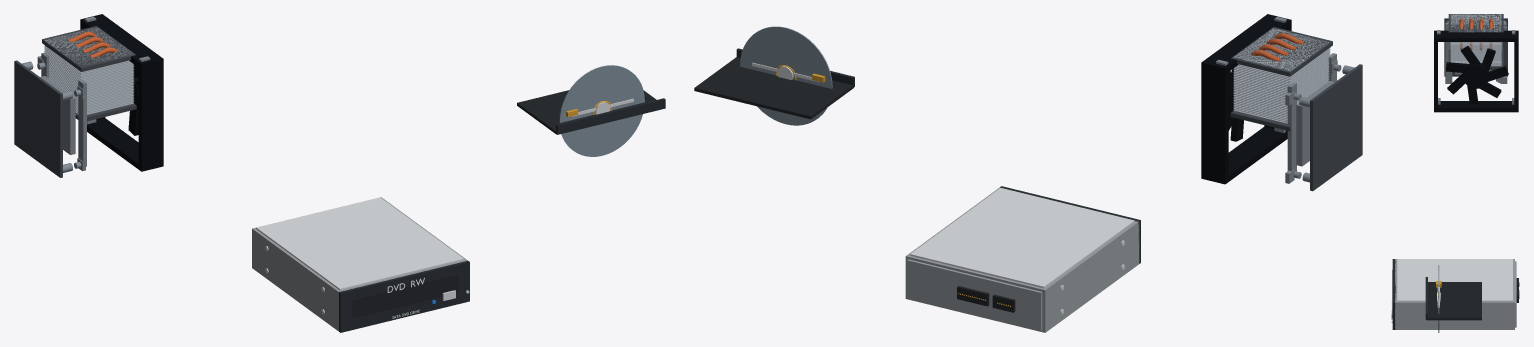
The model's file is cpu_cooler.glb.
3 renders of one model, left to right at view 1: azimuth 30°, elevation 25°; view 2: azimuth 150°, elevation 25°; view 3: azimuth 270°, elevation 25°, orthographic. The views are drawn at different scales.
Parts seen in each view (by area): view 1: OPTICAL_TopCover, OPTICAL_Disc, COOLER_Heatsink.001, COOLER_Backplate.001, OPTICAL_Enclosure, OPTICAL_FrontBezel, COOLER_FanFrame_Left.001, COOLER_Heatsink_TopRail.001, OPTICAL_TraySlot, COOLER_FanFrame_Bottom.001, COOLER_FanFrame_Top.001, OPTICAL_TrayBase (+3 smaller); view 2: OPTICAL_TopCover, OPTICAL_Enclosure, COOLER_Heatsink.001, COOLER_Backplate.001, OPTICAL_RearPanel, OPTICAL_TrayBase, OPTICAL_Disc, COOLER_FanFrame_Right.001, COOLER_Heatsink_TopRail.001, COOLER_FanFrame_Bottom.001, COOLER_FanFrame_Top.001, COOLER_ContactBase.001 (+1 smaller); view 3: OPTICAL_TopCover, OPTICAL_Enclosure, OPTICAL_TrayBase, COOLER_Heatsink.001, COOLER_FanFrame_Bottom.001, COOLER_FanFrame_Top.001, COOLER_Heatsink_TopRail.001, COOLER_FanHub.001, COOLER_FanFrame_Right.001, COOLER_Backplate.001, COOLER_FanFrame_Left.001, OPTICAL_FrontBezel (+12 smaller).
Part boxes in pixels (<box>): OPTICAL_TopCover: <box>256,197,463,290</box>; OPTICAL_Disc: <box>559,65,644,156</box>; COOLER_Heatsink.001: <box>44,27,134,114</box>; COOLER_Backplate.001: <box>14,60,62,177</box>; OPTICAL_Enclosure: <box>252,197,467,331</box>; OPTICAL_FrontBezel: <box>339,260,469,332</box>; COOLER_FanFrame_Left.001: <box>138,62,163,167</box>; COOLER_Heatsink_TopRail.001: <box>42,26,135,71</box>; OPTICAL_TraySlot: <box>352,274,458,318</box>; COOLER_FanFrame_Bottom.001: <box>87,118,163,171</box>; COOLER_FanFrame_Top.001: <box>80,14,163,69</box>; OPTICAL_TrayBase: <box>517,90,656,134</box>; OPTICAL_TopCover: <box>910,188,1134,288</box>; OPTICAL_Enclosure: <box>905,187,1139,332</box>; COOLER_Heatsink.001: <box>1233,28,1330,123</box>; COOLER_Backplate.001: <box>1310,64,1362,191</box>; OPTICAL_RearPanel: <box>907,259,1042,330</box>; OPTICAL_TrayBase: <box>694,57,853,119</box>; OPTICAL_Disc: <box>740,26,832,125</box>; COOLER_FanFrame_Right.001: <box>1201,66,1228,179</box>; COOLER_Heatsink_TopRail.001: <box>1231,27,1332,76</box>; COOLER_FanFrame_Bottom.001: <box>1201,126,1287,184</box>; COOLER_FanFrame_Top.001: <box>1201,14,1291,73</box>; COOLER_ContactBase.001: <box>1296,81,1334,166</box>; OPTICAL_TopCover: <box>1397,259,1512,301</box>; OPTICAL_Enclosure: <box>1395,259,1514,329</box>; OPTICAL_TrayBase: <box>1426,282,1481,320</box>; COOLER_Heatsink.001: <box>1450,14,1501,66</box>; COOLER_FanFrame_Bottom.001: <box>1434,101,1518,112</box>; COOLER_FanFrame_Top.001: <box>1434,30,1518,41</box>; COOLER_Heatsink_TopRail.001: <box>1448,14,1503,32</box>; COOLER_FanHub.001: <box>1463,63,1488,88</box>; COOLER_FanFrame_Right.001: <box>1514,40,1518,108</box>; COOLER_Backplate.001: <box>1444,18,1507,76</box>; COOLER_FanFrame_Left.001: <box>1434,40,1437,109</box>; OPTICAL_FrontBezel: <box>1392,259,1395,329</box>.
Size of the model in its own units: 0.668 by 0.3162 by 0.1822.
